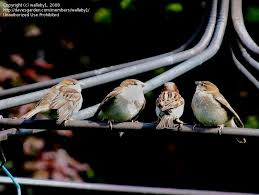hsparrow: (193, 76, 248, 147), (18, 76, 90, 130), (94, 77, 149, 132), (153, 80, 187, 144)
